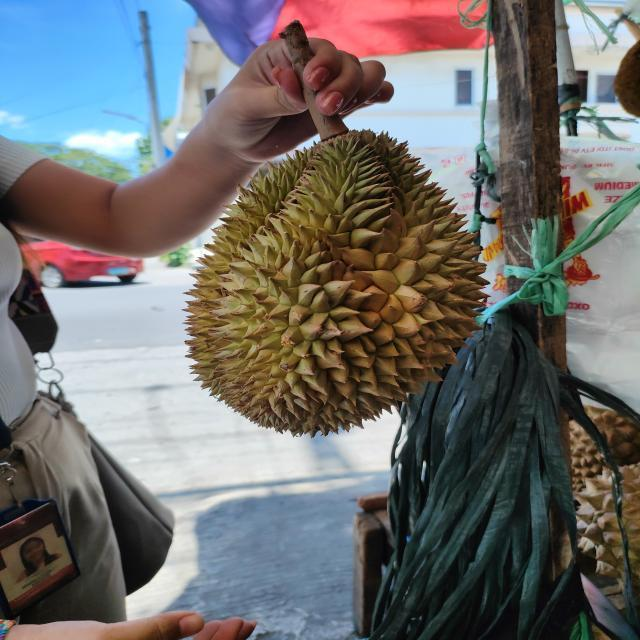mature: (183, 129, 491, 442)
